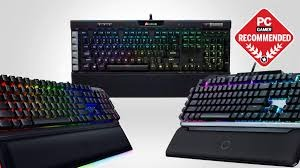keyboard: (10, 30, 300, 159), (61, 10, 245, 99)
